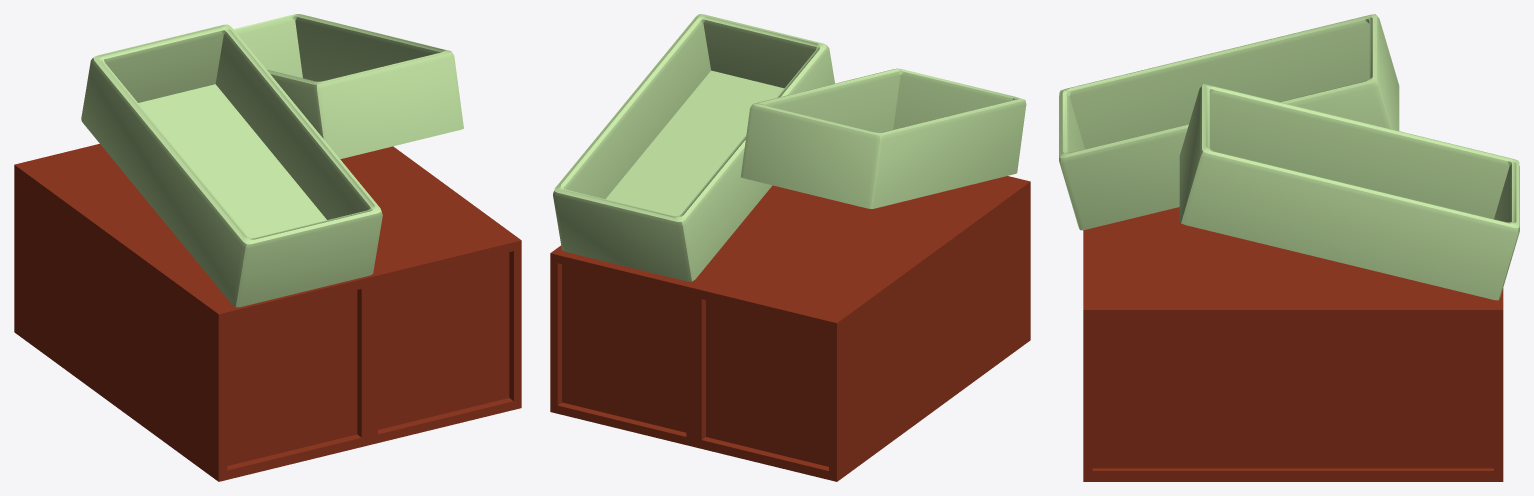
File: shelf-marker-3.glb
3 views of the same model, side by side, from view 1: azimuth 30°, elevation 25°; view 2: azimuth 150°, elevation 25°; view 3: azimuth 270°, elevation 25° (orthographic). The views are drawn at different scales.
Visible parts, largest first — view 1: Box008, Object002; view 2: Box008, Object002; view 3: Box008, Object002.
Part boxes in pixels (box(x1,y1,x2,y2)): Box008: box(14, 144, 521, 481); Object002: box(81, 14, 463, 307); Box008: box(550, 176, 1030, 481); Object002: box(553, 14, 1026, 281); Box008: box(1083, 207, 1503, 481); Object002: box(1059, 14, 1519, 300).
Size of the model in its own units: 0.055 by 0.055 by 0.0706.
